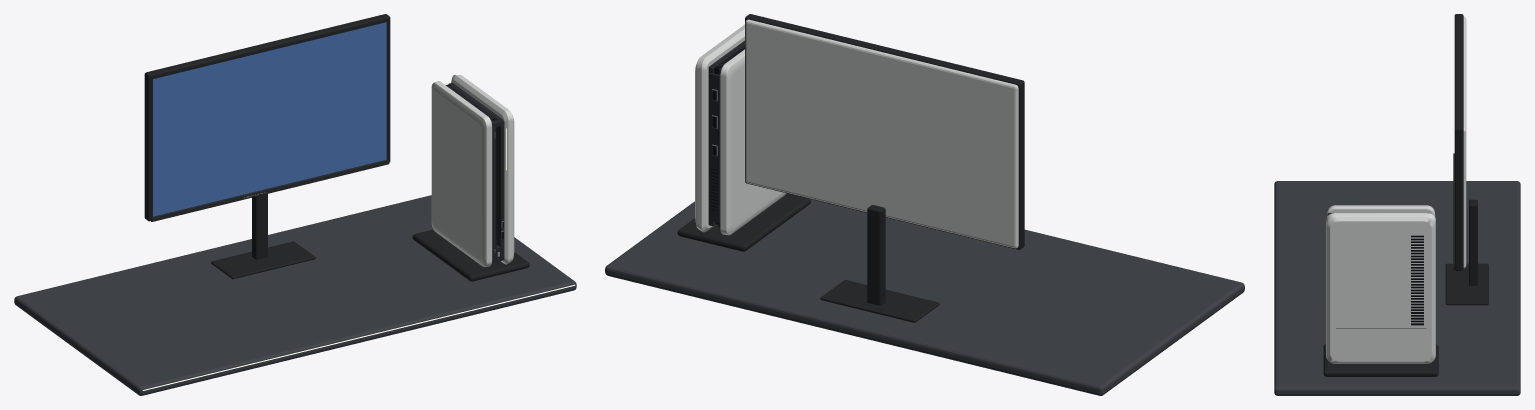
File: console-setup.glb
3 renders of one model, left to right at view 1: azimuth 30°, elevation 25°; view 2: azimuth 150°, elevation 25°; view 3: azimuth 270°, elevation 25°, orthographic. The views are drawn at different scales.
Visible parts, largest first — view 1: Stand, Monitor_Screen, Console_Batch_Console_Shell, Monitor_Frame, Console_Batch_Console_Core, Console_Vertical_Base, Monitor_Foot, Monitor_Chin, Monitor_Neck, Stand_Edge; view 2: Stand, Monitor_Rear, Console_Batch_Console_Shell, Monitor_Frame, Console_Vertical_Base, Monitor_Foot, Console_Batch_Console_Core, Monitor_Neck; view 3: Stand, Console_Batch_Console_Shell, Monitor_Frame, Console_Vertical_Base, Monitor_Foot, Console_Batch_Recess_Shadow, Monitor_Rear, Monitor_Neck, Stand_Edge, Monitor_Chin.
Boxes of the visible parts, bbox=[...] form: Stand: bbox=[14, 195, 576, 395]; Monitor_Screen: bbox=[153, 22, 386, 216]; Console_Batch_Console_Shell: bbox=[431, 75, 514, 266]; Monitor_Frame: bbox=[144, 14, 390, 221]; Console_Batch_Console_Core: bbox=[448, 83, 504, 262]; Console_Vertical_Base: bbox=[412, 229, 529, 281]; Monitor_Foot: bbox=[211, 241, 315, 279]; Monitor_Chin: bbox=[151, 159, 389, 221]; Monitor_Neck: bbox=[252, 194, 267, 259]; Stand_Edge: bbox=[142, 284, 575, 390]; Stand: bbox=[605, 199, 1244, 395]; Monitor_Rear: bbox=[745, 19, 1018, 248]; Console_Batch_Console_Shell: bbox=[695, 16, 786, 235]; Monitor_Frame: bbox=[745, 14, 1024, 249]; Console_Vertical_Base: bbox=[677, 193, 810, 251]; Monitor_Foot: bbox=[820, 280, 939, 322]; Console_Batch_Console_Core: bbox=[708, 40, 744, 227]; Monitor_Neck: bbox=[867, 205, 885, 305]; Stand: bbox=[1274, 181, 1520, 395]; Console_Batch_Console_Shell: bbox=[1326, 205, 1435, 363]; Monitor_Frame: bbox=[1454, 14, 1463, 270]; Console_Vertical_Base: bbox=[1323, 344, 1438, 376]; Monitor_Foot: bbox=[1445, 263, 1488, 305]; Console_Batch_Recess_Shadow: bbox=[1336, 235, 1425, 328]; Monitor_Rear: bbox=[1463, 16, 1466, 268]; Monitor_Neck: bbox=[1469, 199, 1477, 285]; Stand_Edge: bbox=[1273, 183, 1274, 389]; Monitor_Chin: bbox=[1453, 153, 1454, 270].
Bounding box in the file's own units: 12 × 6.01 × 6.02.
